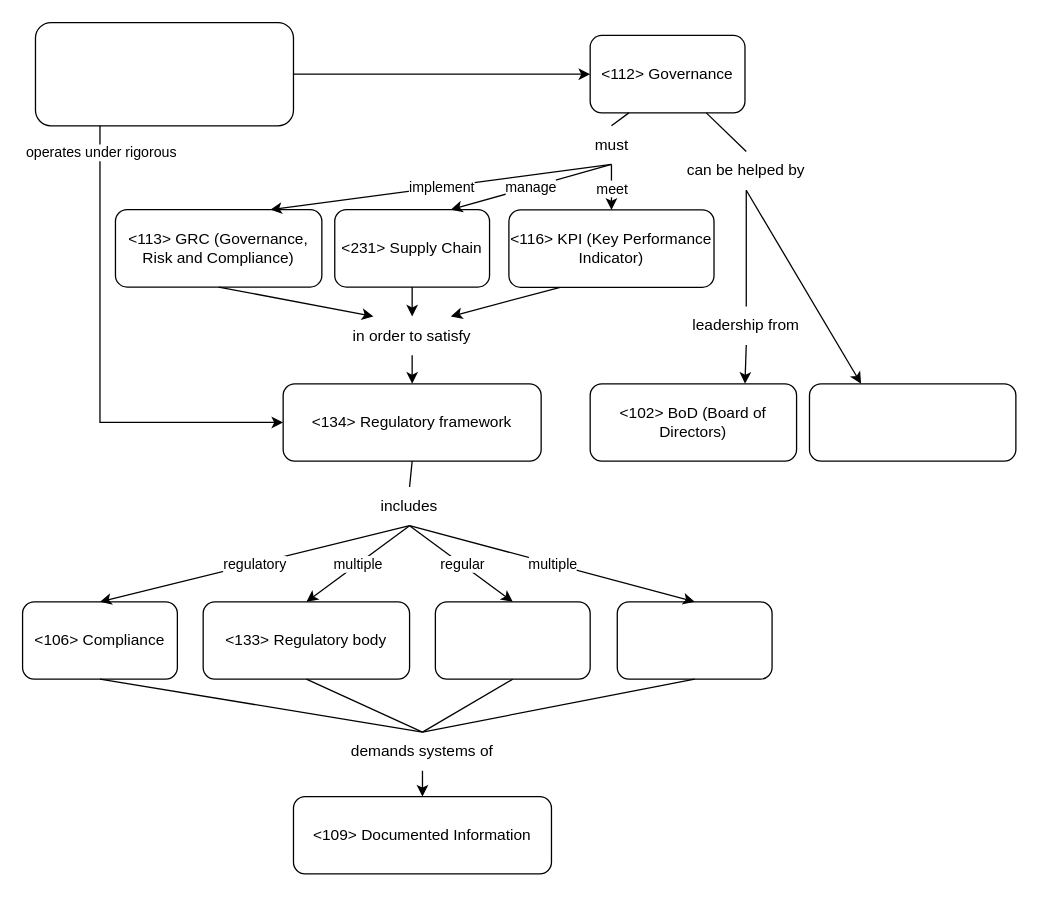
Some shapes in this 1038 by 897 pixel diagram are drawn without their labels. The shapes that lost their labels are listed below. From the top down, each one's centre as x and y in pixels, then its label:
point 163,73: Pharmaceuticals and medical devices sector
point 912,421: <114> Integrated Management System (IMS)
point 512,639: <101> Audit
point 694,639: <105> Certification
